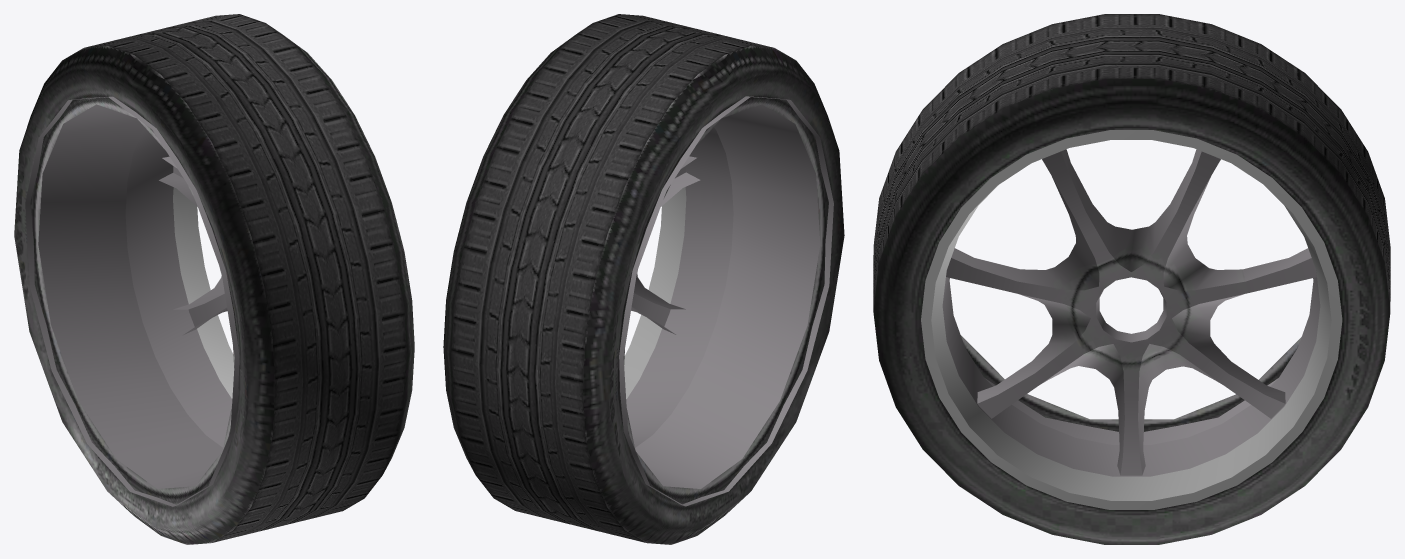
The model's file is wheel.fbx.
3 views of the same model, side by side, from view 1: azimuth 30°, elevation 25°; view 2: azimuth 150°, elevation 25°; view 3: azimuth 270°, elevation 25° (orthographic).
Visible parts, largest first — view 1: wheel; view 2: wheel; view 3: wheel.
Boxes of the visible parts, x1,y1,x2,y2 form: wheel: [14, 14, 414, 544]; wheel: [443, 14, 844, 544]; wheel: [873, 14, 1390, 544].
Size of the model in its own units: 35.81 by 95.29 by 95.84.
Materials: 4 (4 with a texture image).
